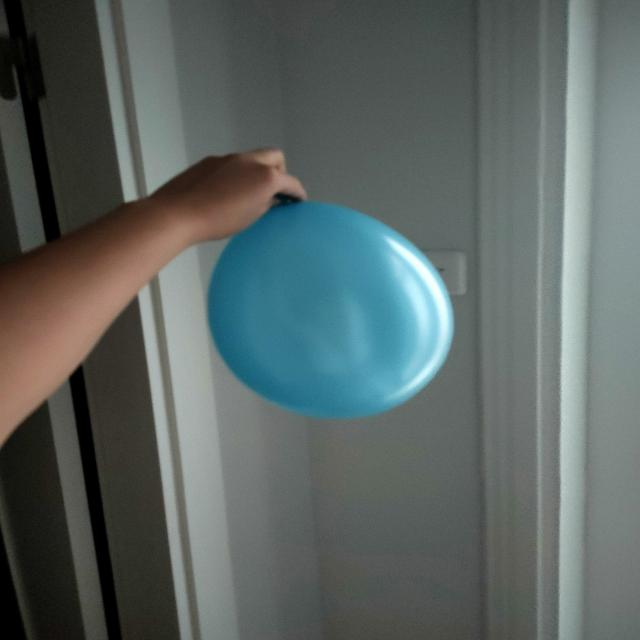blue: (209, 201, 455, 421)
